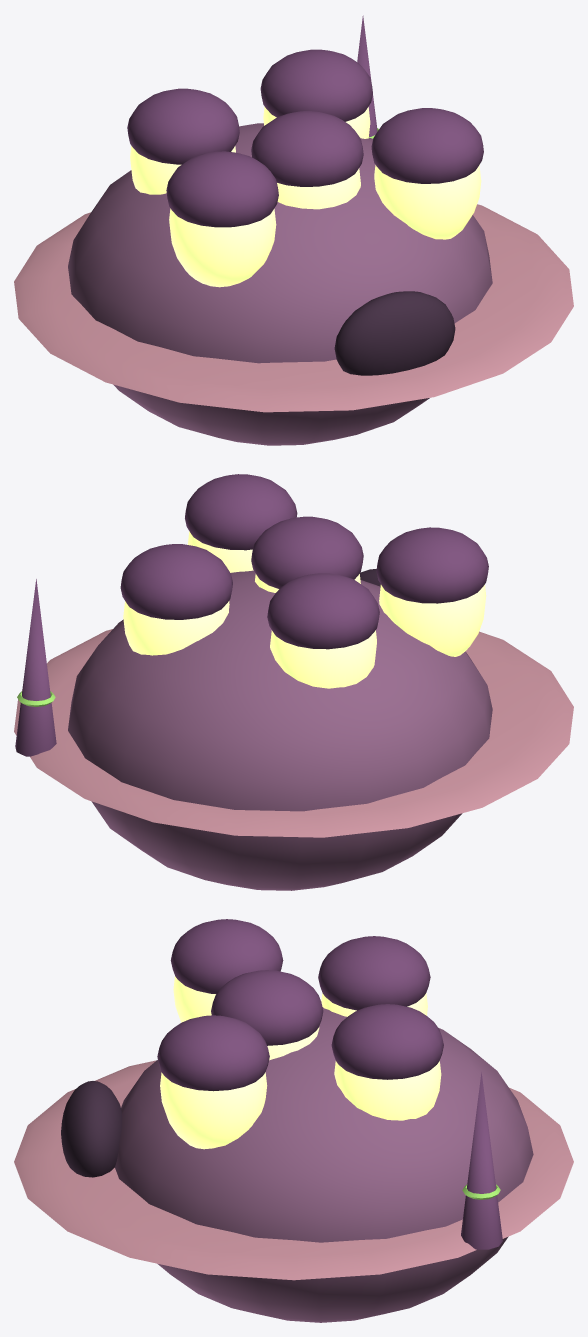
File: barracks_ins.glb
The picture shows the model from 3 angles, top to bottom: view 1: azimuth 30°, elevation 25°; view 2: azimuth 150°, elevation 25°; view 3: azimuth 270°, elevation 25°; orthographic projection.
Visible parts, largest first — view 1: barracks_ins; view 2: barracks_ins; view 3: barracks_ins.
Boxes of the visible parts, box(x1,y1,x2,y2) form: barracks_ins: box(14, 15, 573, 445); barracks_ins: box(14, 474, 573, 890); barracks_ins: box(14, 919, 573, 1322).
Size of the model in its own units: 2.09 by 1.31 by 2.09.
